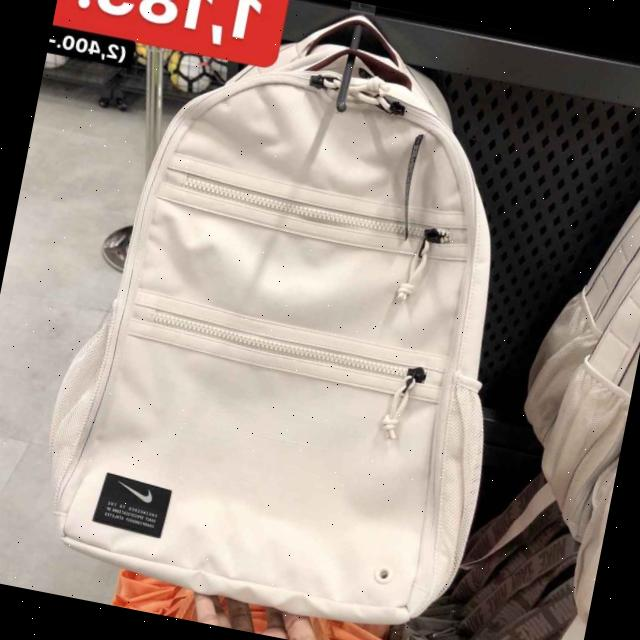Handbag: (39, 25, 550, 640)
